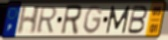B: (126, 5, 149, 36)
G: (82, 4, 104, 35)
H: (15, 5, 42, 36)
M: (105, 5, 131, 35)
R: (59, 4, 83, 37), (35, 6, 59, 35)
